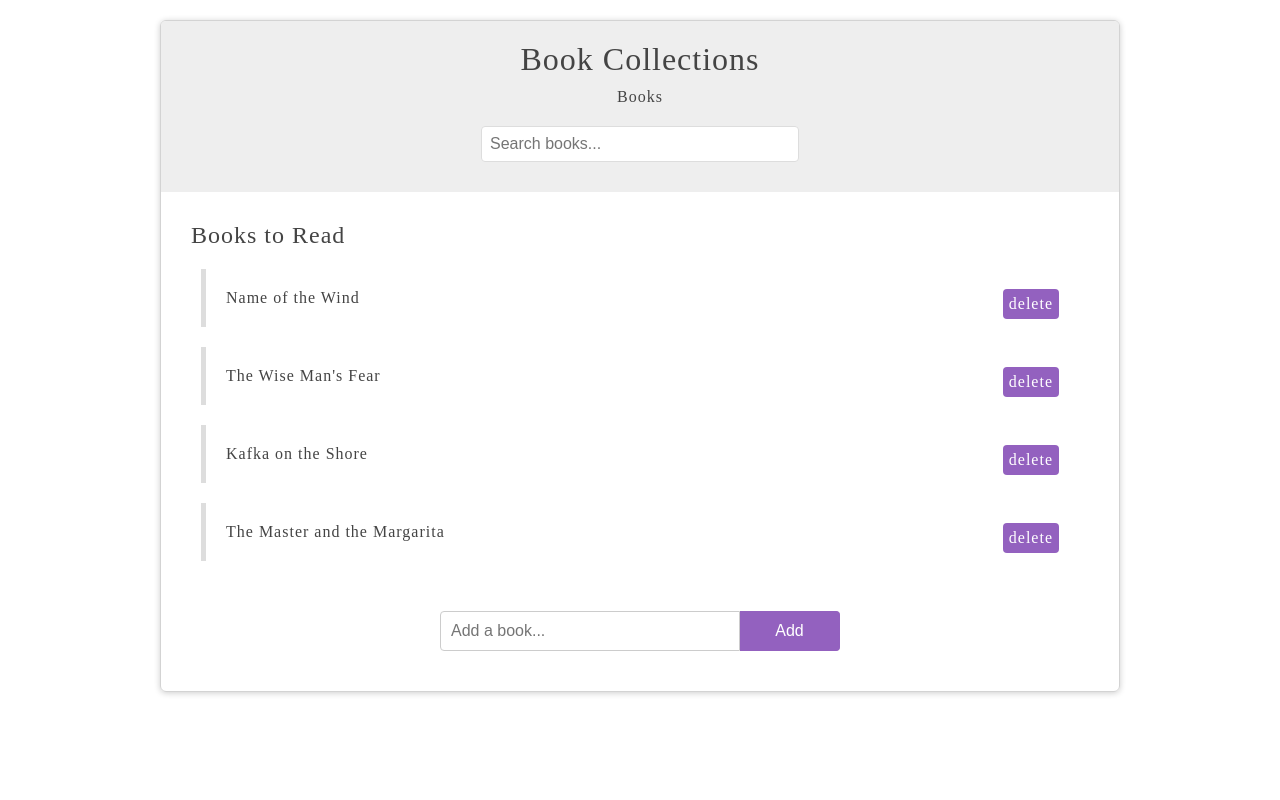
Test: test add new book form works
Type "Oliver Twist" into the field with placeholder "Add a book...". click: (590, 631)
box: x1=440 y1=611 x2=740 y2=651
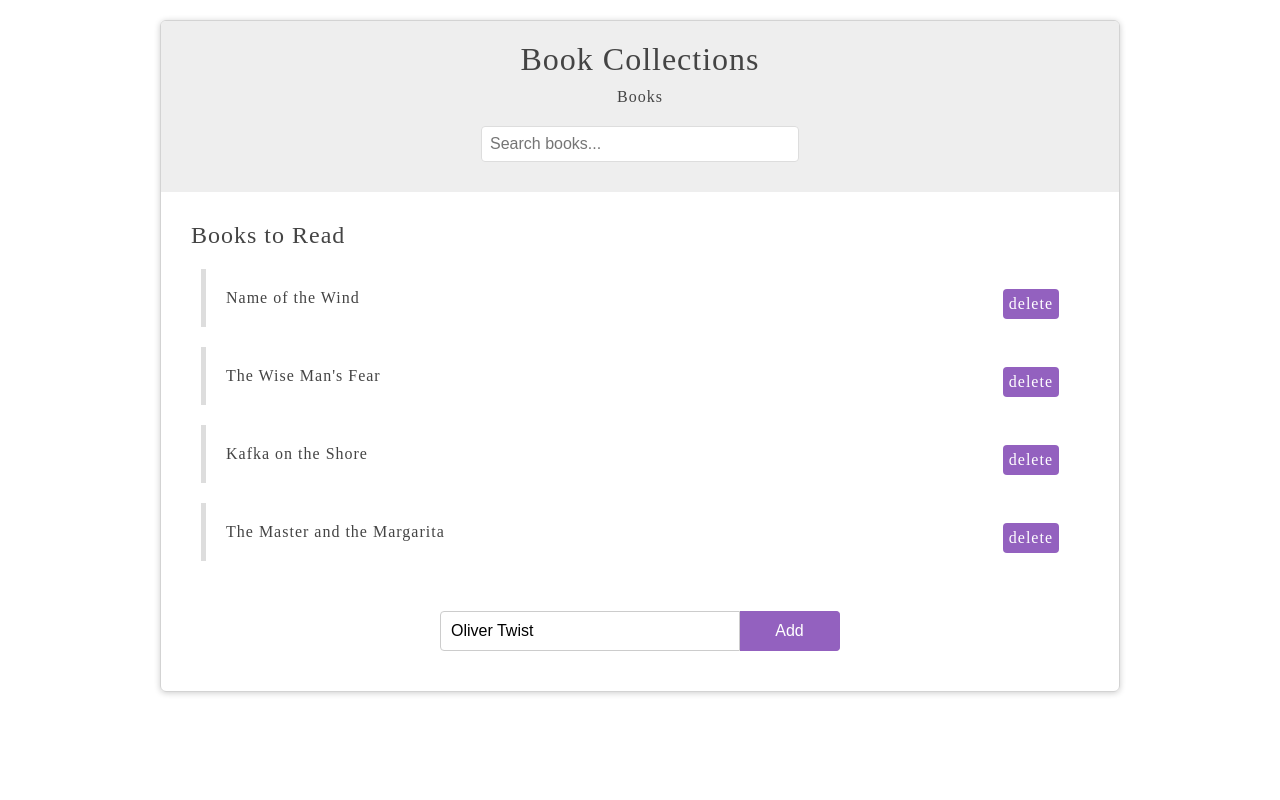
Submit the form with placeholder "add a book", box x1=440 y1=611 x2=840 y2=651
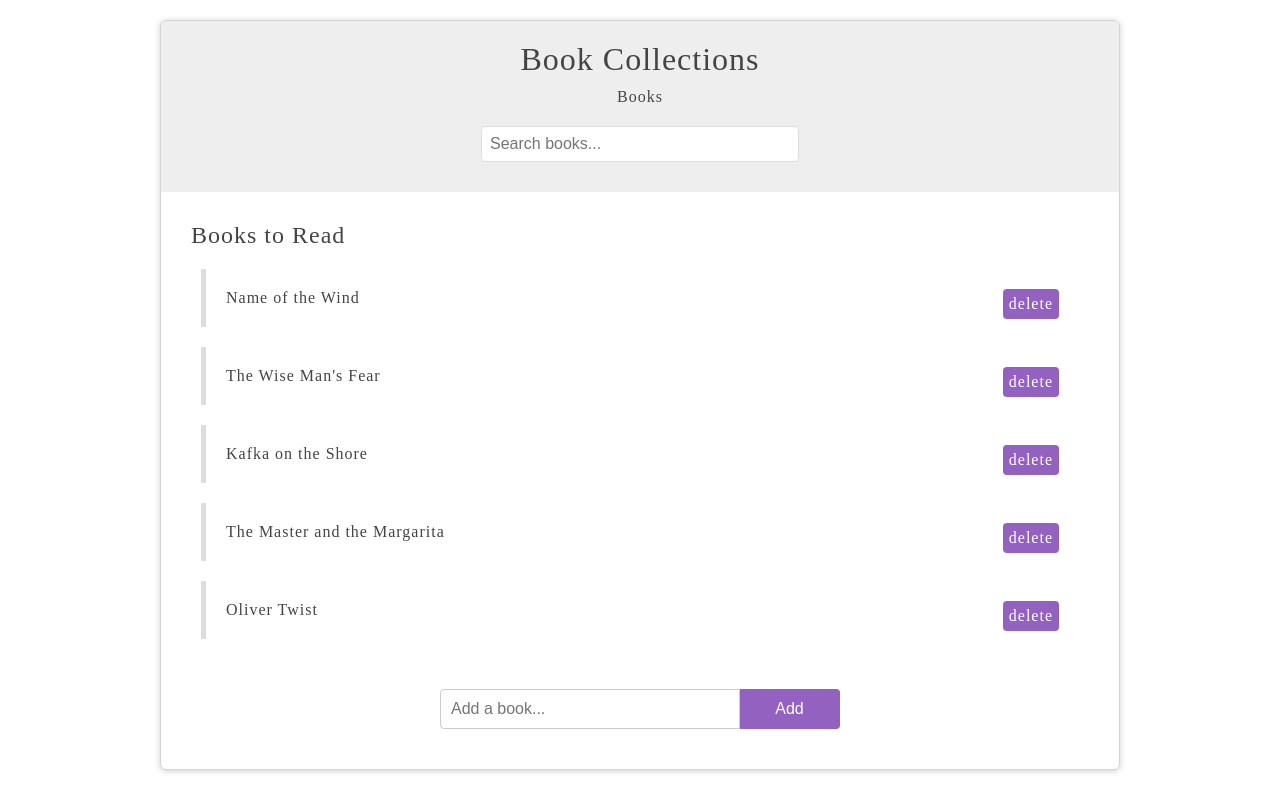
Check: the number of list items is 5, box x1=201 y1=269 x2=1079 y2=327; x1=201 y1=347 x2=1079 y2=405; x1=201 y1=425 x2=1079 y2=483; x1=201 y1=503 x2=1079 y2=561; x1=201 y1=581 x2=1079 y2=639
